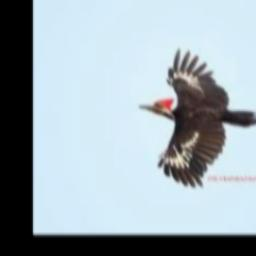Woodpecker: (140, 48, 256, 186)
